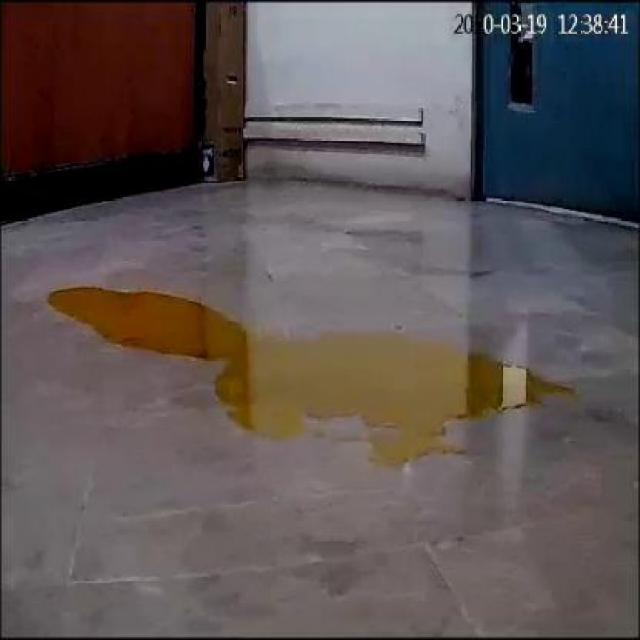spill: (44, 280, 568, 469)
